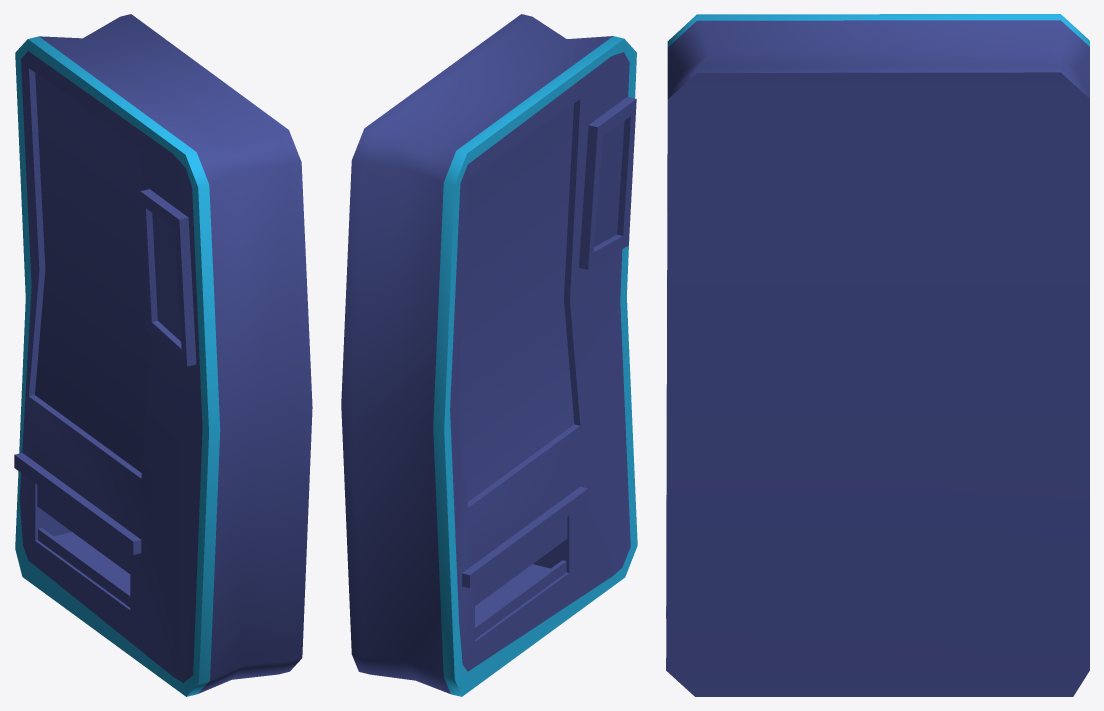
The model's file is SM_VendingMchine_01.fbx.
The picture shows the model from 3 angles, left to right: view 1: azimuth 30°, elevation 25°; view 2: azimuth 150°, elevation 25°; view 3: azimuth 270°, elevation 25°; orthographic projection. The views are drawn at different scales.
Parts seen in each view (by area): view 1: SM_VendingMachine_01; view 2: SM_VendingMachine_01; view 3: SM_VendingMachine_01.
Boxes of the visible parts, bbox=[...] form: SM_VendingMachine_01: bbox=[14, 14, 312, 696]; SM_VendingMachine_01: bbox=[341, 14, 637, 696]; SM_VendingMachine_01: bbox=[666, 14, 1089, 696].
Size of the model in its own units: 209 by 880 by 541.
